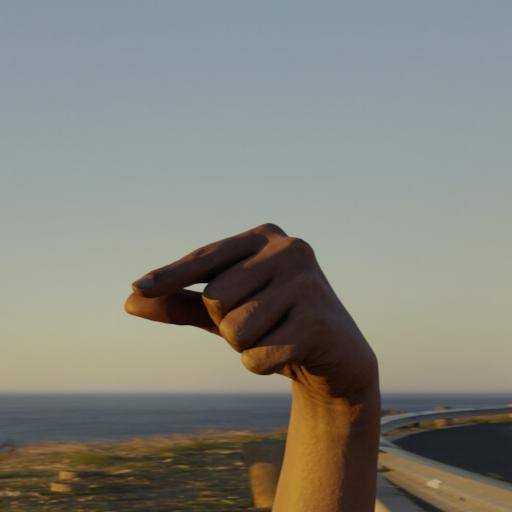G: (98, 198, 414, 416)
